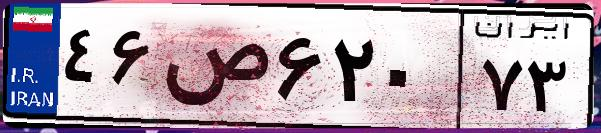0: (385, 28, 445, 110)
2: (330, 28, 385, 110)
3: (525, 38, 570, 115)
4: (57, 26, 110, 100)
6: (270, 28, 330, 110), (110, 28, 158, 98)
7: (475, 38, 525, 113)
ص: (158, 20, 270, 120)
